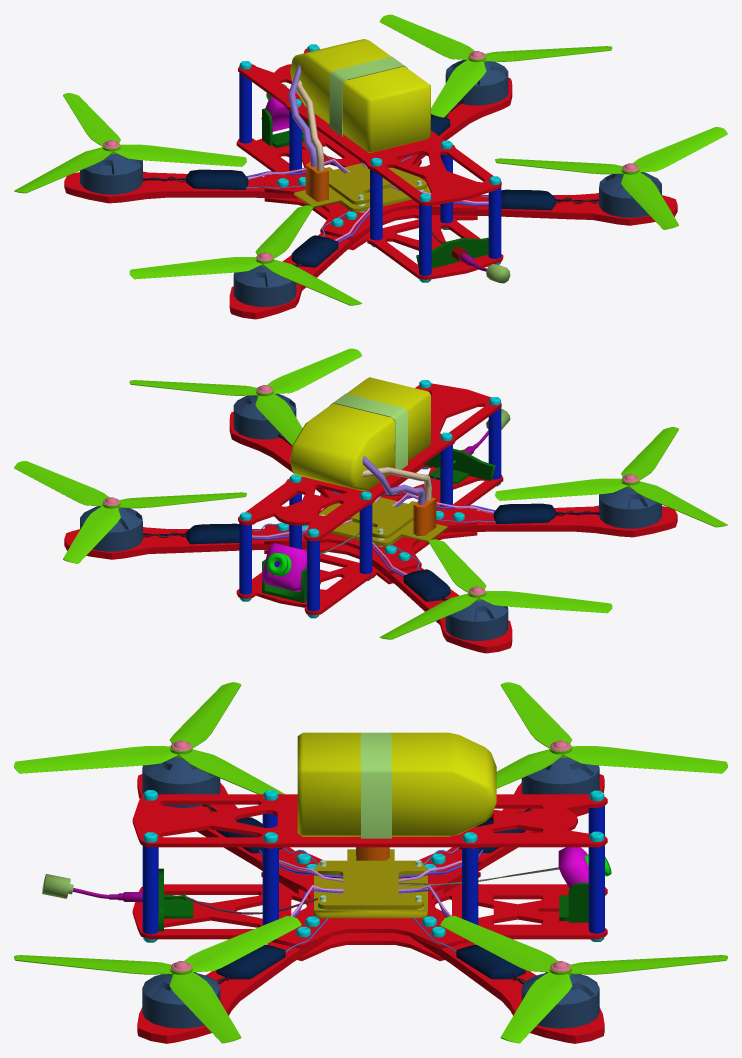
The model's file is dron_export.fbx.
3 views of the same model, one above another, from view 1: azimuth 30°, elevation 25°; view 2: azimuth 150°, elevation 25°; view 3: azimuth 270°, elevation 25° (orthographic). The views are drawn at different scales.
Parts seen in each view (by area): view 1: Plane.022; view 2: Plane.022; view 3: Plane.022.
Part boxes in pixels (<box>): Plane.022: <box>14,14,727,319</box>; Plane.022: <box>14,348,727,653</box>; Plane.022: <box>14,682,727,1043</box>.
Size of the model in its own units: 743 by 165 by 625.
